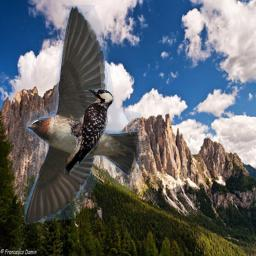Swallow: (24, 5, 141, 226)
Woodpecker: (62, 86, 119, 178)
